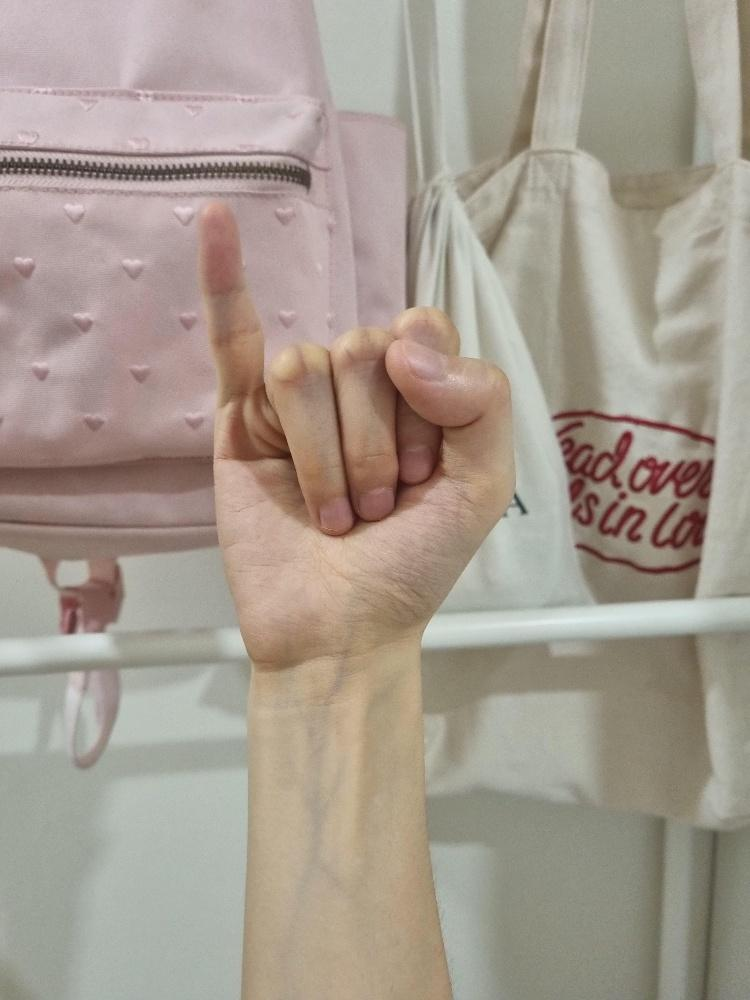i: (196, 196, 520, 670)
